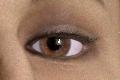eye: (41, 37, 71, 57)
